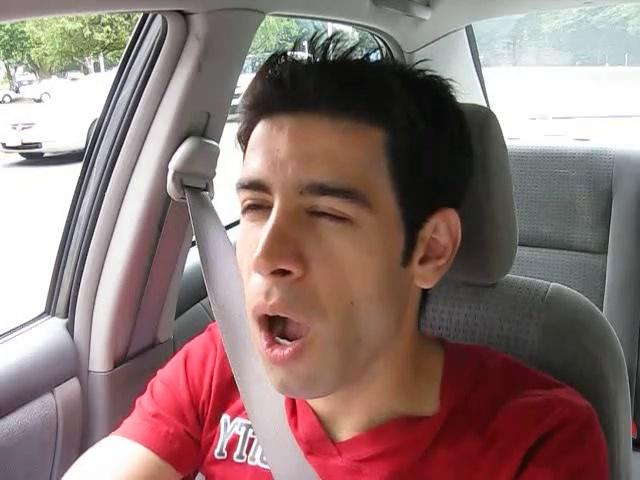close_eyeL: (224, 186, 280, 231)
close_eyeR: (287, 191, 369, 240)
yawn: (232, 299, 332, 365)
